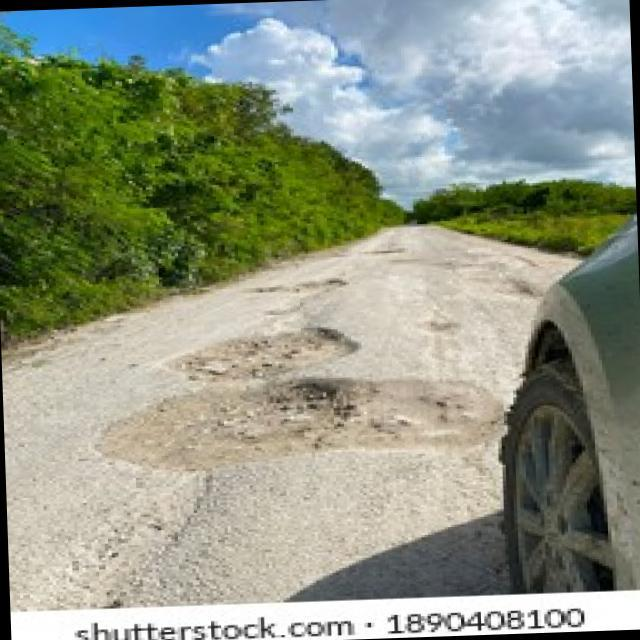Pothole: (89, 370, 508, 464), (164, 323, 362, 381), (249, 277, 349, 294), (360, 245, 408, 256)
